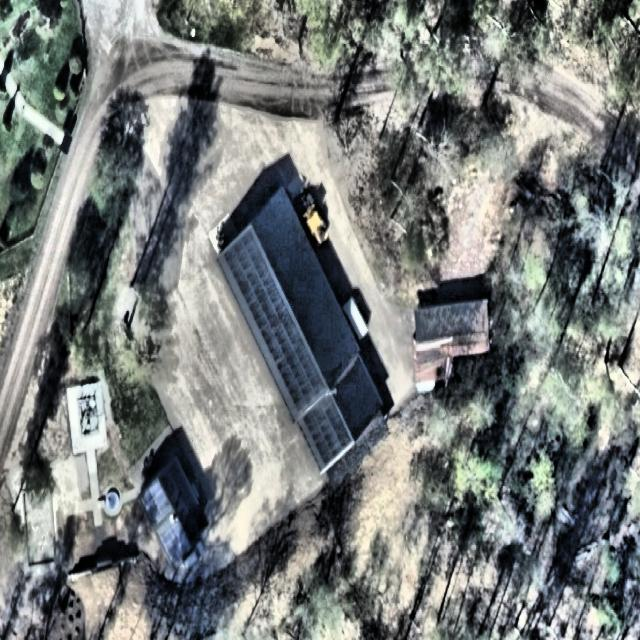roof_pv: (301, 395, 349, 468), (223, 228, 275, 288), (259, 325, 315, 377), (240, 282, 298, 332), (287, 370, 333, 413)
